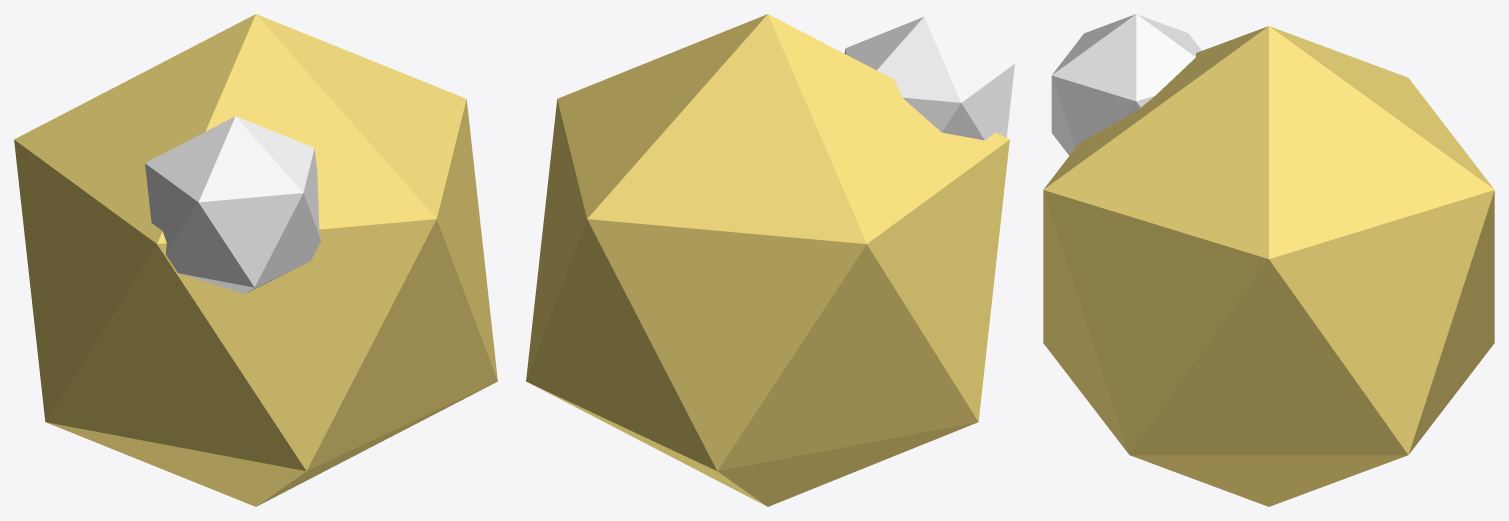
The model's file is Pearl.fbx.
The picture shows the model from 3 angles, left to right: view 1: azimuth 30°, elevation 25°; view 2: azimuth 150°, elevation 25°; view 3: azimuth 270°, elevation 25°; orthographic projection. The views are drawn at different scales.
Visible parts, largest first — view 1: Body; view 2: Body; view 3: Body.
Part boxes in pixels (bbox=[...]): Body: bbox=[14, 14, 497, 506]; Body: bbox=[526, 14, 1014, 506]; Body: bbox=[1043, 14, 1494, 506].
Size of the model in its own units: 0.2862 by 0.32 by 0.2722.
